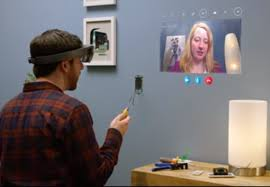hololens: (27, 44, 96, 67)
